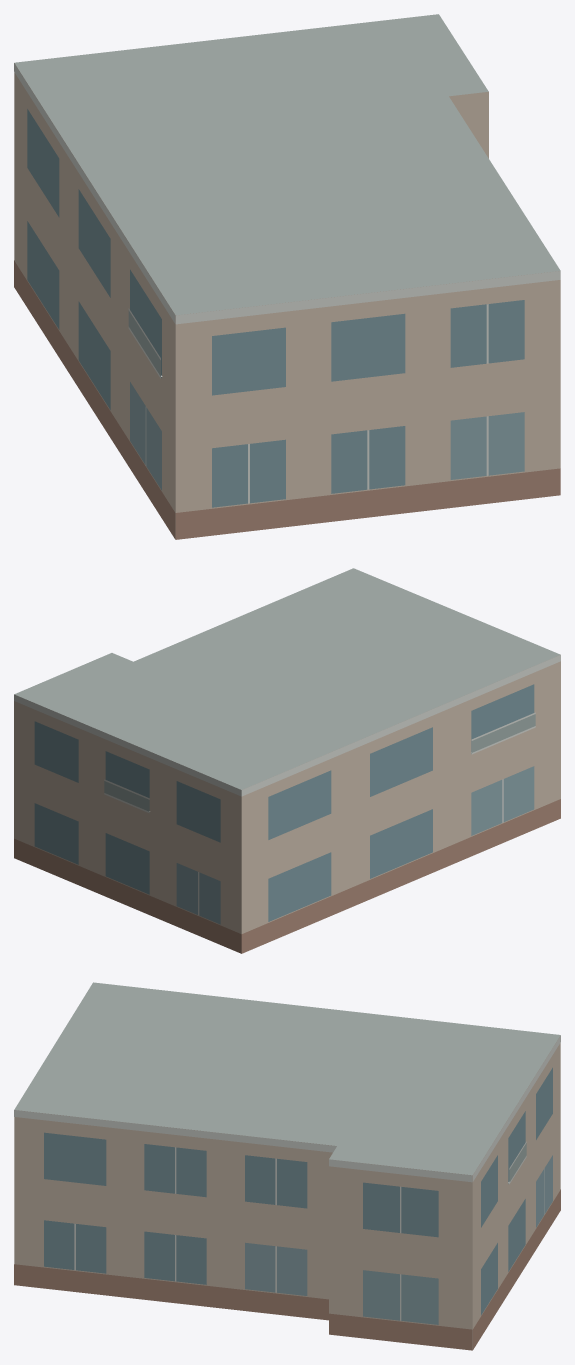
Rendered from survey-upis-32808647.glb.
3 renders of one model, top to bottom at view 1: azimuth 30°, elevation 25°; view 2: azimuth 150°, elevation 25°; view 3: azimuth 270°, elevation 25°, orthographic. The views are drawn at different scales.
Parts seen in each view (by area): view 1: survey-upis-32808647.tmp; view 2: survey-upis-32808647.tmp; view 3: survey-upis-32808647.tmp.
Boxes of the visible parts, x1,y1,x2,y2 form: survey-upis-32808647.tmp: [14, 14, 560, 539]; survey-upis-32808647.tmp: [14, 568, 560, 953]; survey-upis-32808647.tmp: [14, 982, 560, 1350].
Size of the model in its own units: 14.42 by 6.1 by 17.26.
